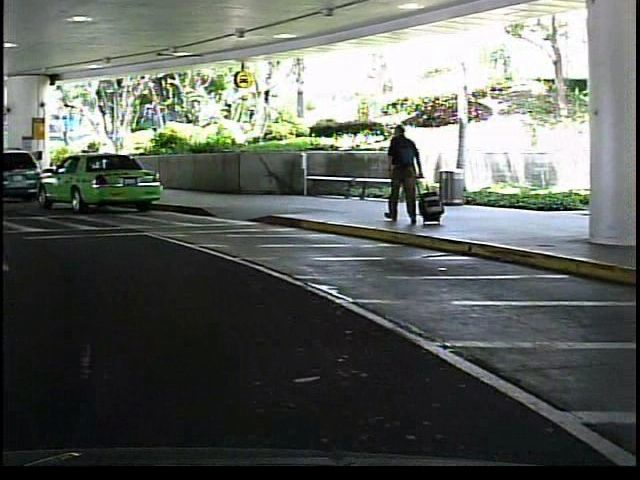person: (377, 113, 424, 232)
